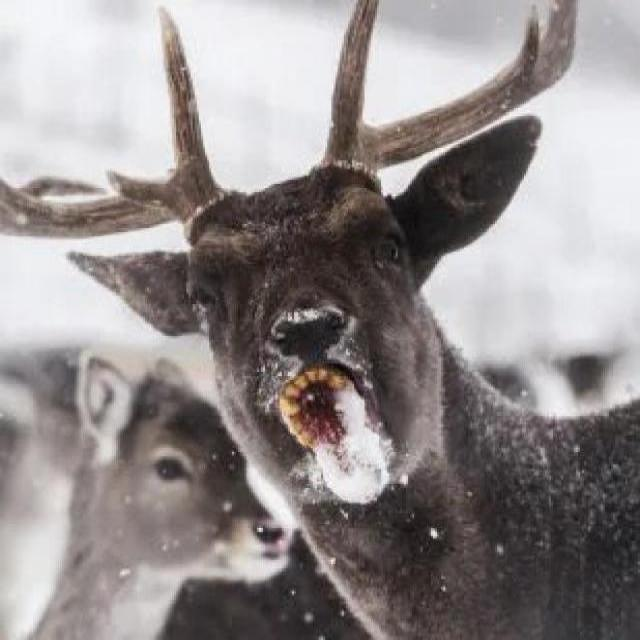deer: (128, 97, 640, 640)
